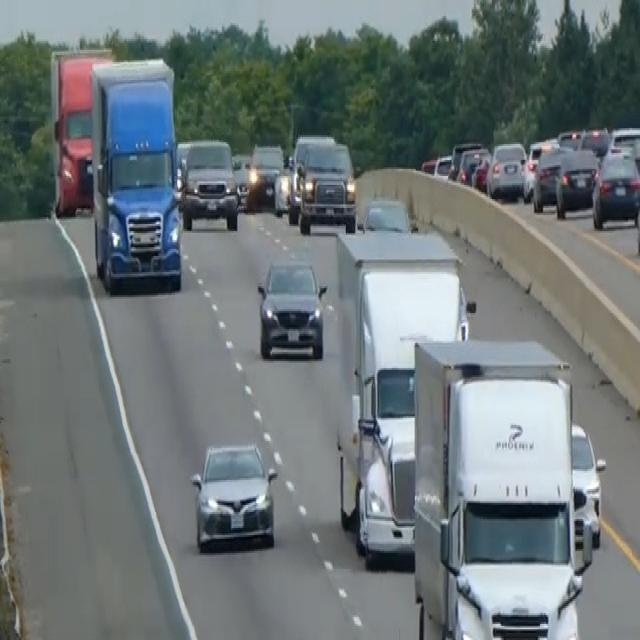car: (189, 439, 278, 553), (256, 254, 327, 361), (180, 137, 239, 231), (298, 139, 356, 233), (570, 420, 606, 548), (286, 132, 334, 220), (591, 148, 639, 230), (554, 146, 599, 217), (486, 139, 527, 199), (246, 140, 284, 204), (522, 137, 558, 201), (532, 144, 564, 210), (358, 194, 411, 233), (448, 137, 481, 179), (456, 144, 487, 187), (273, 153, 294, 215), (470, 149, 492, 192), (432, 153, 452, 178)
lorry: (410, 332, 587, 638), (89, 55, 184, 293)
